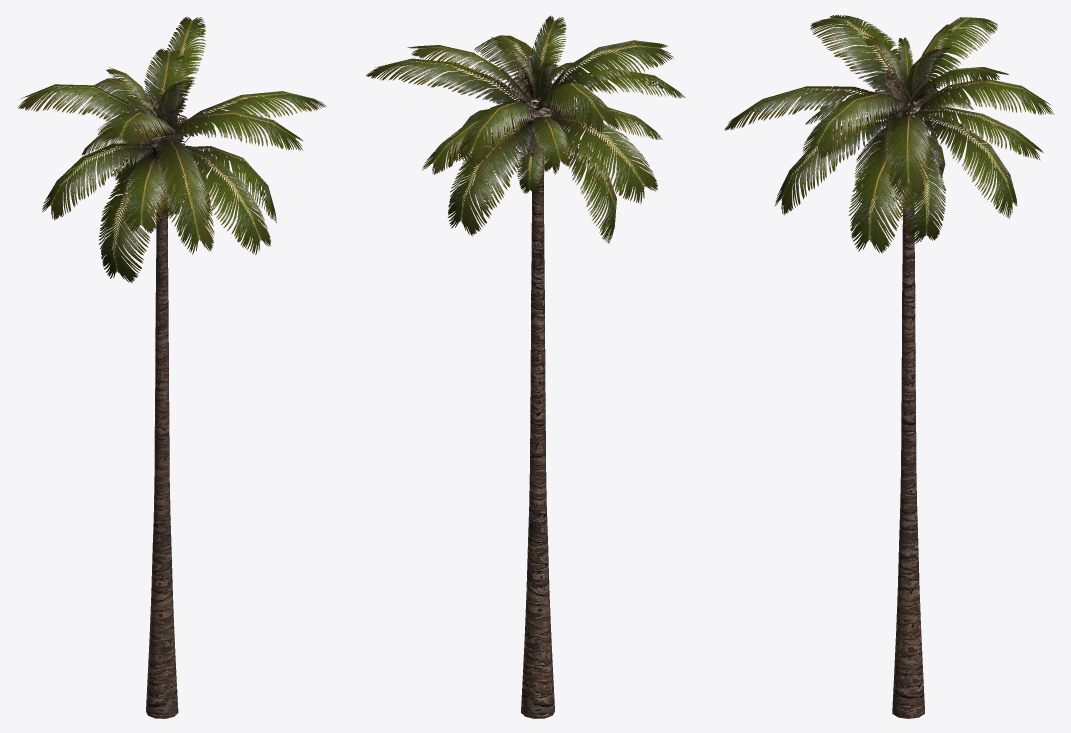
Rendered from yughues-palm.glb.
3 renders of one model, left to right at view 1: azimuth 30°, elevation 25°; view 2: azimuth 150°, elevation 25°; view 3: azimuth 270°, elevation 25°, orthographic. The views are drawn at different scales.
Visible parts, largest first — view 1: YughuesPalm; view 2: YughuesPalm; view 3: YughuesPalm.
Part boxes in pixels (left/top/right/bottom): YughuesPalm: left=18, top=16, right=326, bottom=718; YughuesPalm: left=366, top=15, right=685, bottom=718; YughuesPalm: left=724, top=15, right=1053, bottom=718.
Size of the model in its own units: 4.96 by 11 by 4.94.
1 material, 1 textured.
